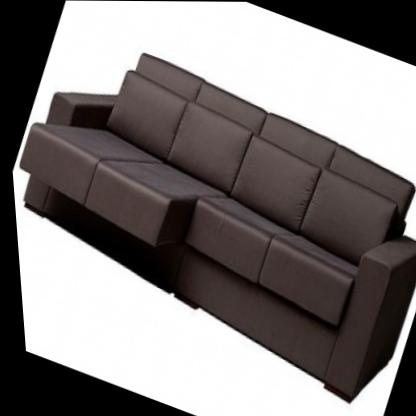Sofa: (1, 16, 416, 415)
